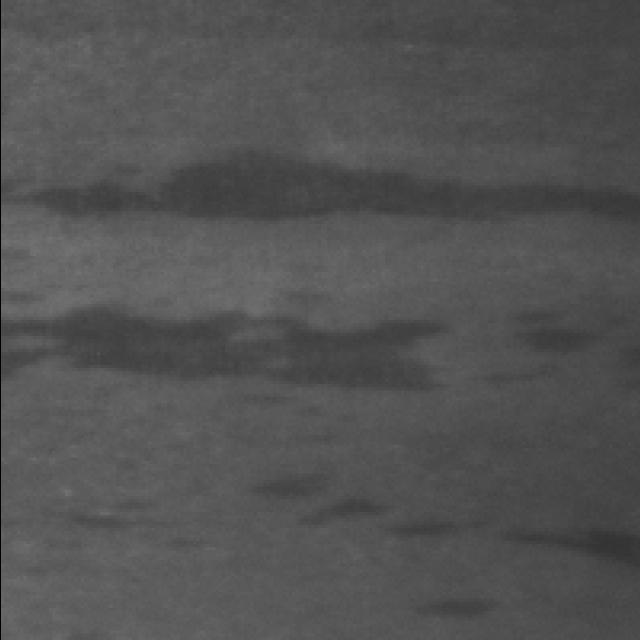inclusion: (0, 158, 640, 238), (0, 308, 448, 392), (220, 456, 396, 540), (496, 512, 640, 566), (400, 582, 502, 640)
